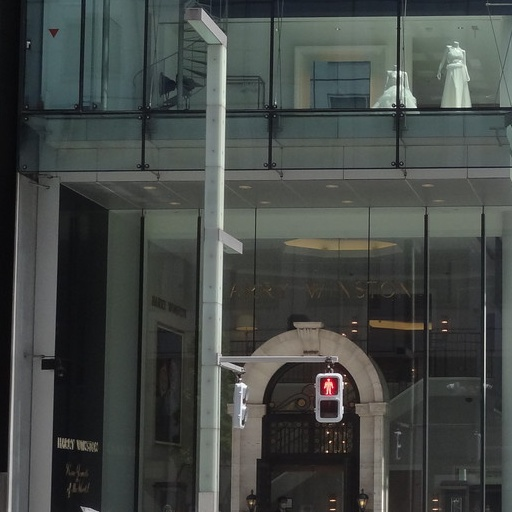Pedestrian_Signal_Red: (306, 363, 347, 426)
